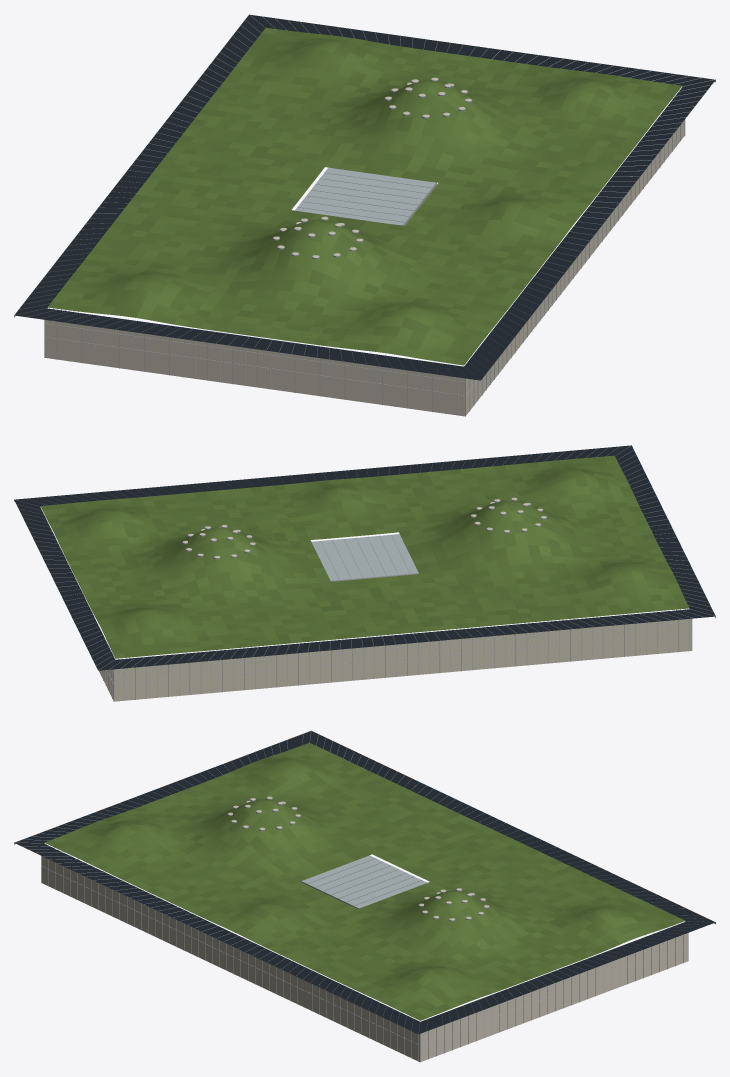
Rendered from academy_lod0.glb.
3 renders of one model, top to bottom at view 1: azimuth 30°, elevation 25°; view 2: azimuth 150°, elevation 25°; view 3: azimuth 270°, elevation 25°, orthographic. The views are drawn at different scales.
Parts seen in each view (by area): view 1: L0_grass, L0_glassc, L0_win, L0_metal; view 2: L0_grass, L0_glassc, L0_win, L0_metal; view 3: L0_grass, L0_glassc, L0_win, L0_metal.
Part boxes in pixels (x1,y1,x2,y2): L0_grass: (47, 27, 682, 365); L0_glassc: (14, 14, 715, 380); L0_win: (45, 77, 684, 416); L0_metal: (14, 14, 715, 416); L0_grass: (40, 455, 689, 658); L0_glassc: (14, 445, 715, 670); L0_win: (99, 497, 691, 701); L0_metal: (14, 445, 715, 701); L0_grass: (44, 742, 685, 1020); L0_glassc: (14, 731, 715, 1034); L0_win: (41, 796, 688, 1061); L0_metal: (14, 730, 715, 1062).
Size of the model in its own units: 202 by 23.97 by 197.
